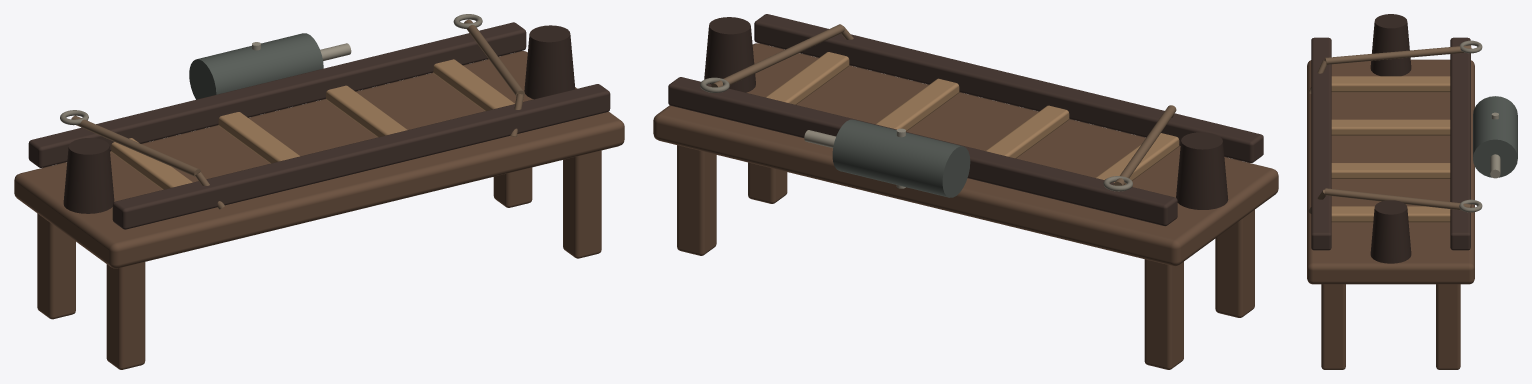
The model's file is detail_torture_rack.glb.
The picture shows the model from 3 angles, left to right: view 1: azimuth 30°, elevation 25°; view 2: azimuth 150°, elevation 25°; view 3: azimuth 270°, elevation 25°; orthographic projection. The views are drawn at different scales.
Visible parts, largest first — view 1: wood, metal, cloth; view 2: wood, metal, cloth; view 3: wood, metal, cloth.
Part boxes in pixels (x1,y1,x2,y2): wood: (14, 14, 624, 369); metal: (28, 22, 610, 229); cloth: (71, 19, 524, 209); wood: (653, 17, 1278, 369); metal: (668, 14, 1263, 226); cloth: (711, 24, 1176, 185); wood: (1307, 14, 1482, 369); metal: (1311, 37, 1517, 250); cloth: (1308, 45, 1471, 213).
Bounding box in the file's own units: 2.8 × 1 × 1.2.
